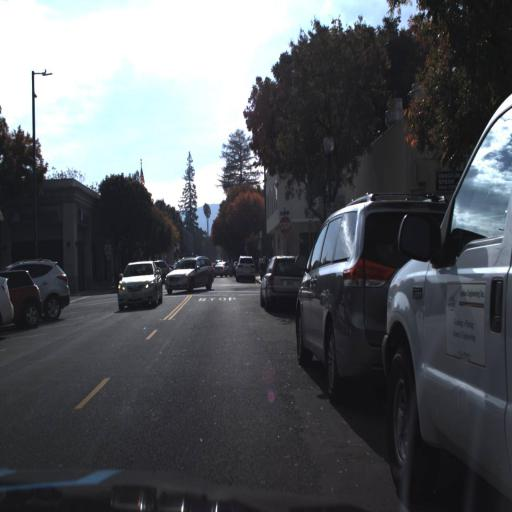car: (294, 187, 448, 400), (287, 184, 392, 410), (256, 244, 294, 320), (115, 257, 163, 313), (163, 251, 216, 296), (39, 256, 71, 323), (234, 249, 258, 288)
